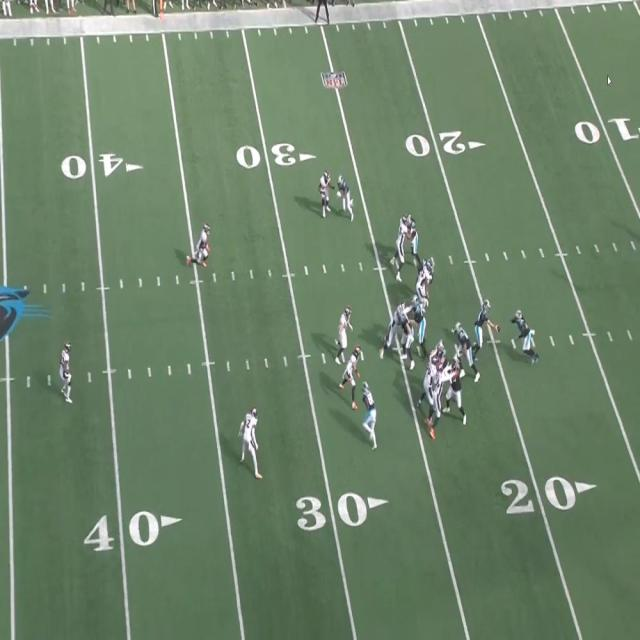center: (400, 307, 416, 368)
db: (242, 406, 260, 472), (59, 344, 73, 404), (197, 224, 213, 267), (321, 170, 334, 214)
lb: (344, 347, 364, 408), (339, 304, 352, 364), (397, 219, 409, 281)
qb: (476, 299, 492, 347)
skill: (452, 322, 474, 372), (363, 379, 378, 445), (407, 212, 421, 274), (519, 316, 537, 362), (341, 174, 356, 218)
